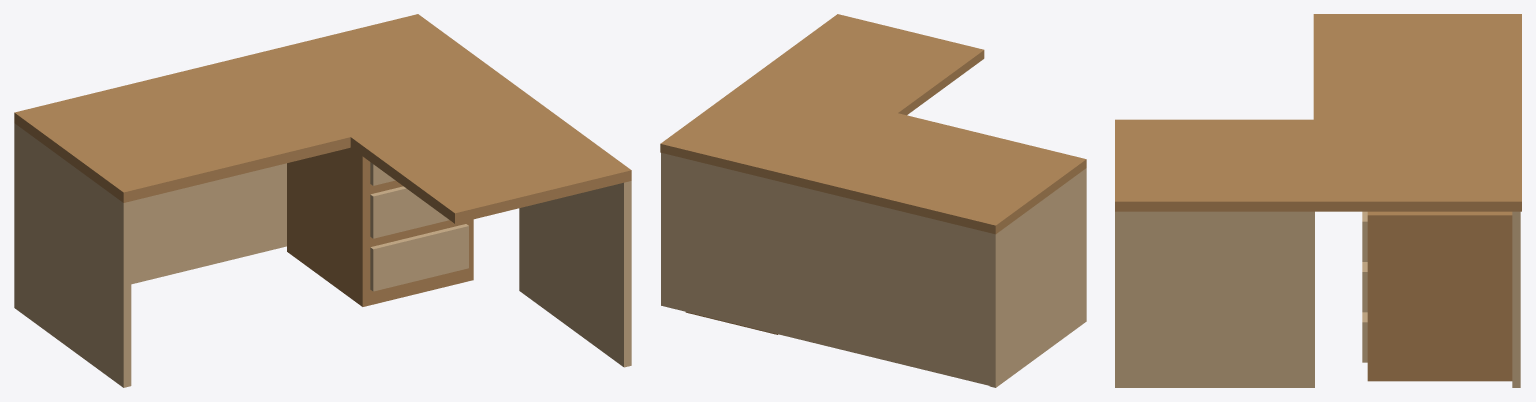
3 renders of one model, left to right at view 1: azimuth 30°, elevation 25°; view 2: azimuth 150°, elevation 25°; view 3: azimuth 270°, elevation 25°, orthographic. The views are drawn at different scales.
Parts seen in each view (by area): view 1: escritorio_of4; view 2: escritorio_of4; view 3: escritorio_of4.
Boxes of the visible parts, x1,y1,x2,y2 form: escritorio_of4: (14, 14, 631, 387); escritorio_of4: (660, 14, 1086, 387); escritorio_of4: (1115, 14, 1521, 387).
Size of the model in its own units: 1.6 by 1.47 by 0.76.
